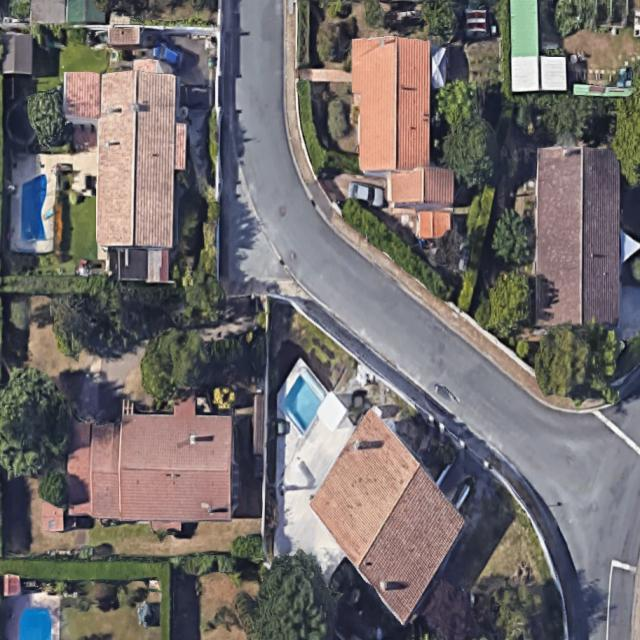maison: (282, 408, 493, 624), (57, 52, 212, 293), (63, 392, 238, 537), (347, 31, 459, 243), (534, 146, 619, 328)
